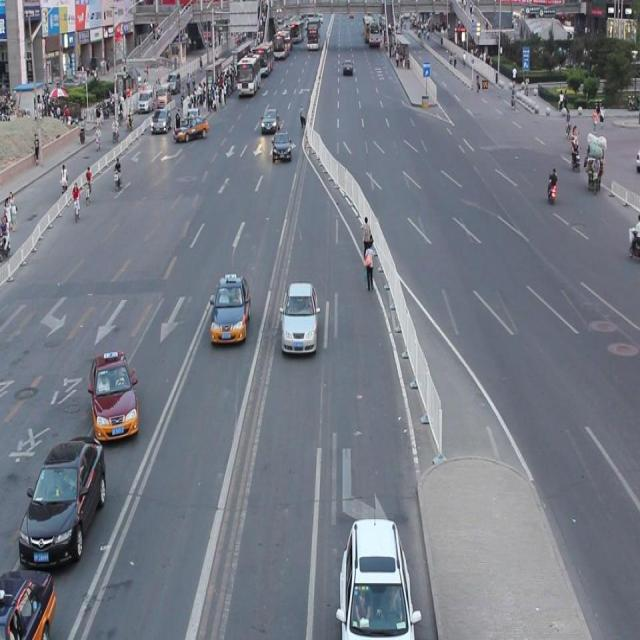car: (19, 432, 107, 566), (337, 514, 416, 640), (89, 349, 140, 442), (1, 565, 55, 640), (280, 279, 319, 355), (209, 272, 250, 344)
